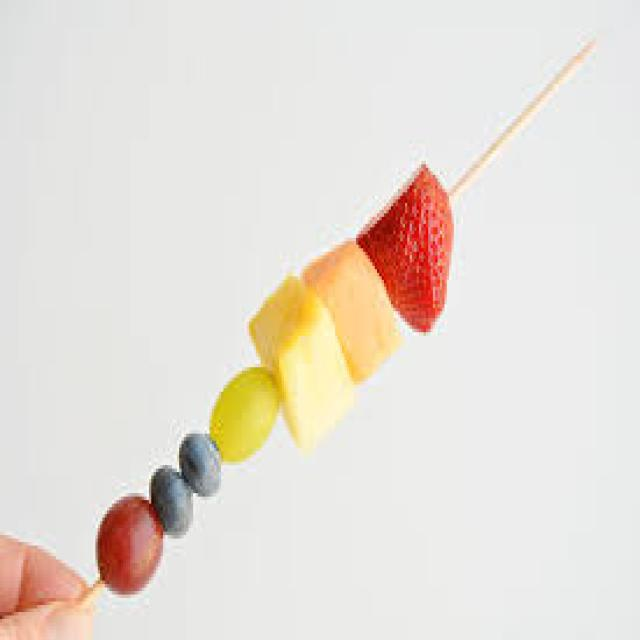Organik: (249, 270, 359, 442), (361, 160, 464, 333), (306, 224, 414, 374), (210, 355, 292, 463), (91, 492, 172, 599), (146, 451, 201, 547), (176, 424, 233, 498)
